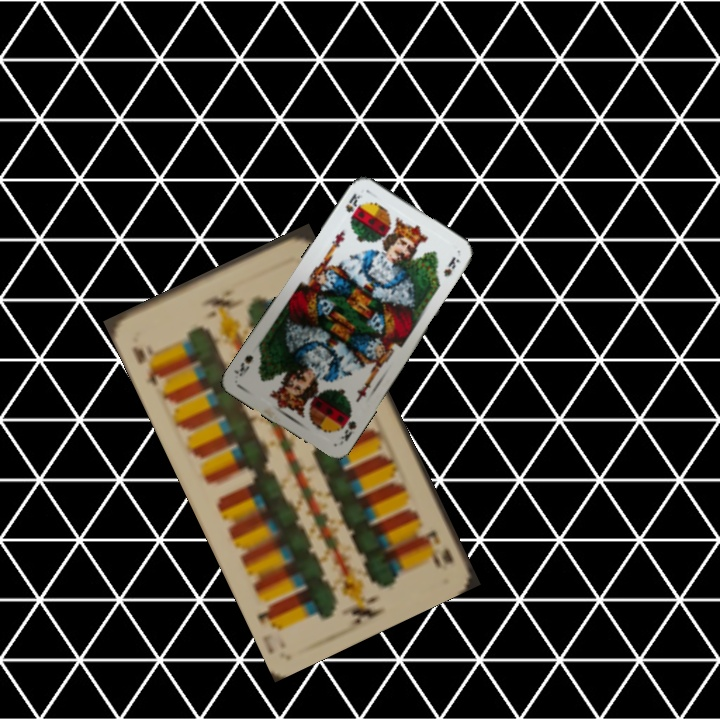E10: (128, 340, 167, 389), (419, 525, 456, 571)
SK: (335, 416, 359, 448), (341, 189, 365, 215)
